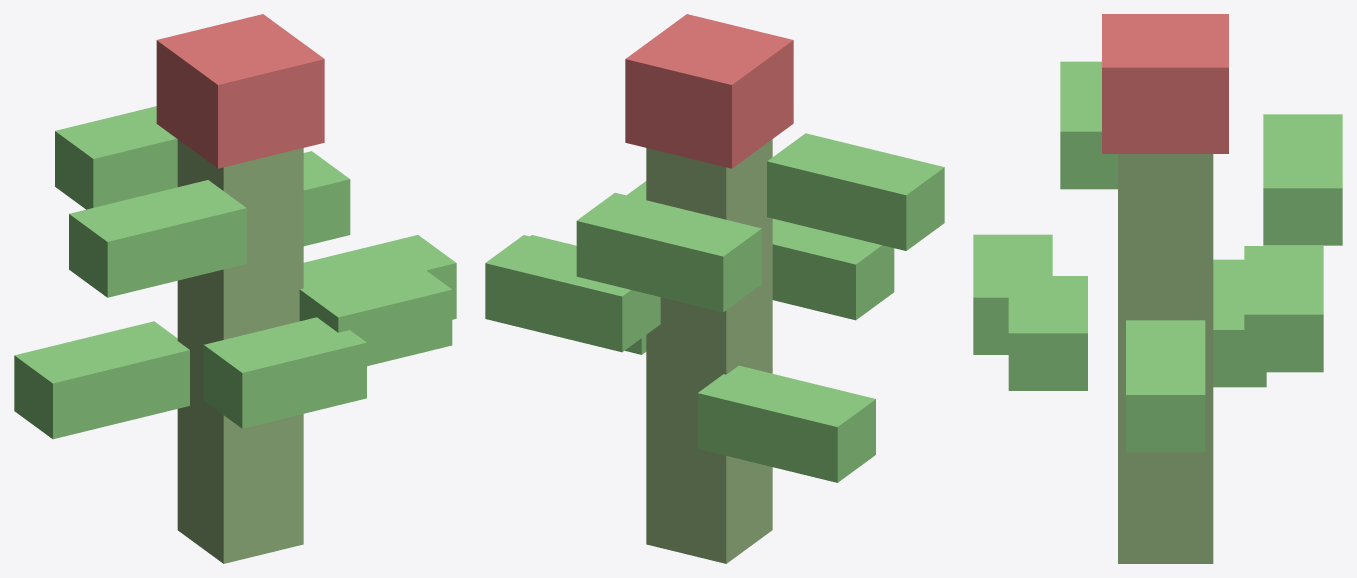
File: Prop_Herb_AMF_Barkbalm_V5.glb
3 views of the same model, side by side, from view 1: azimuth 30°, elevation 25°; view 2: azimuth 150°, elevation 25°; view 3: azimuth 270°, elevation 25° (orthographic). The views are drawn at different scales.
Parts seen in each view (by area): view 1: Prop_Herb_AMF_Barkbalm_V5; view 2: Prop_Herb_AMF_Barkbalm_V5; view 3: Prop_Herb_AMF_Barkbalm_V5.
Boxes of the visible parts, x1,y1,x2,y2 form: Prop_Herb_AMF_Barkbalm_V5: (14,14,456,563); Prop_Herb_AMF_Barkbalm_V5: (485,14,944,563); Prop_Herb_AMF_Barkbalm_V5: (973,14,1342,563).
Size of the model in its own units: 0.2858 by 0.3497 by 0.2328.
